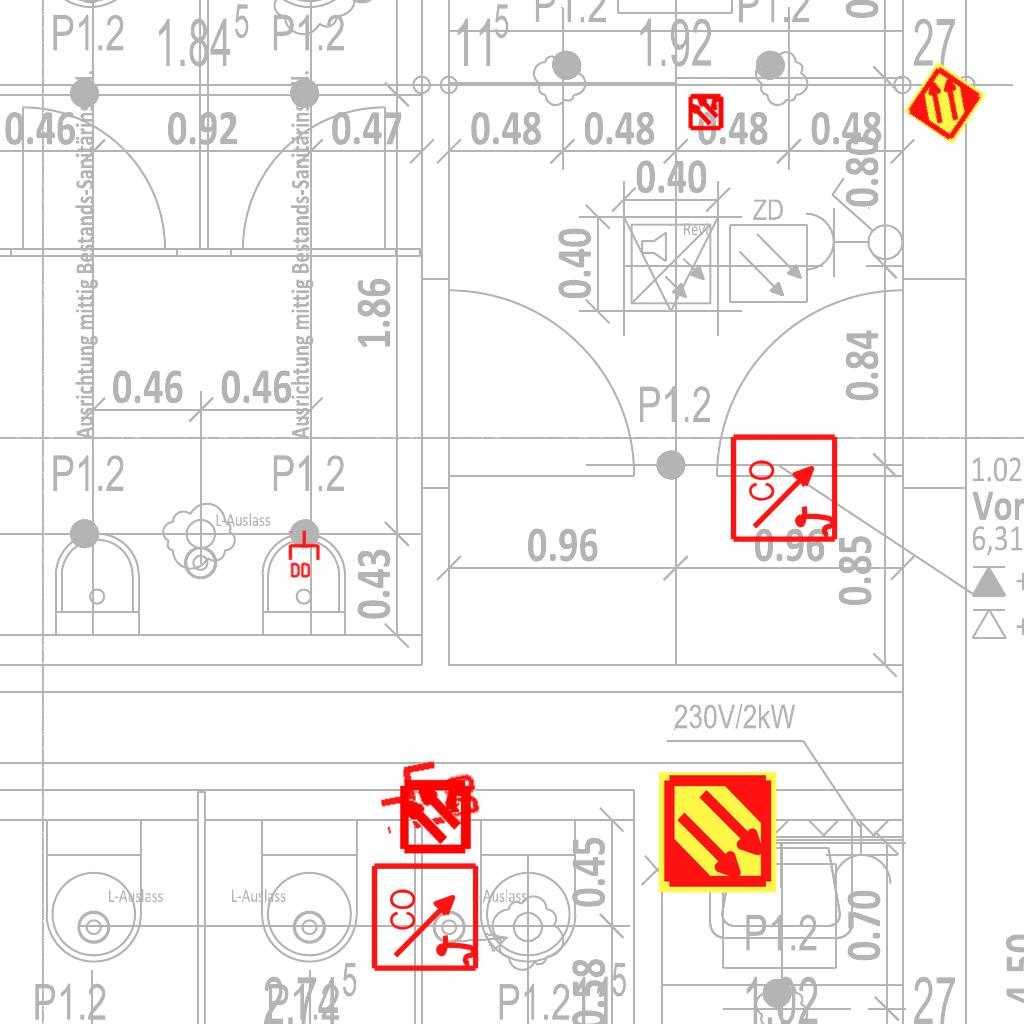ASR_Ansaugrauchmelder: (655, 770, 780, 895), (901, 59, 989, 147)
Datenanschluss_zweifach: (371, 748, 486, 837), (288, 529, 322, 580)
OT_Multisensormelder_(Kombination_RMO_WMD): (379, 758, 492, 871), (678, 83, 734, 139)
ROA_Rauchmelder_optisch_mit_Signalgeber_(Sockelsirene): (370, 860, 483, 973), (729, 431, 842, 544)
